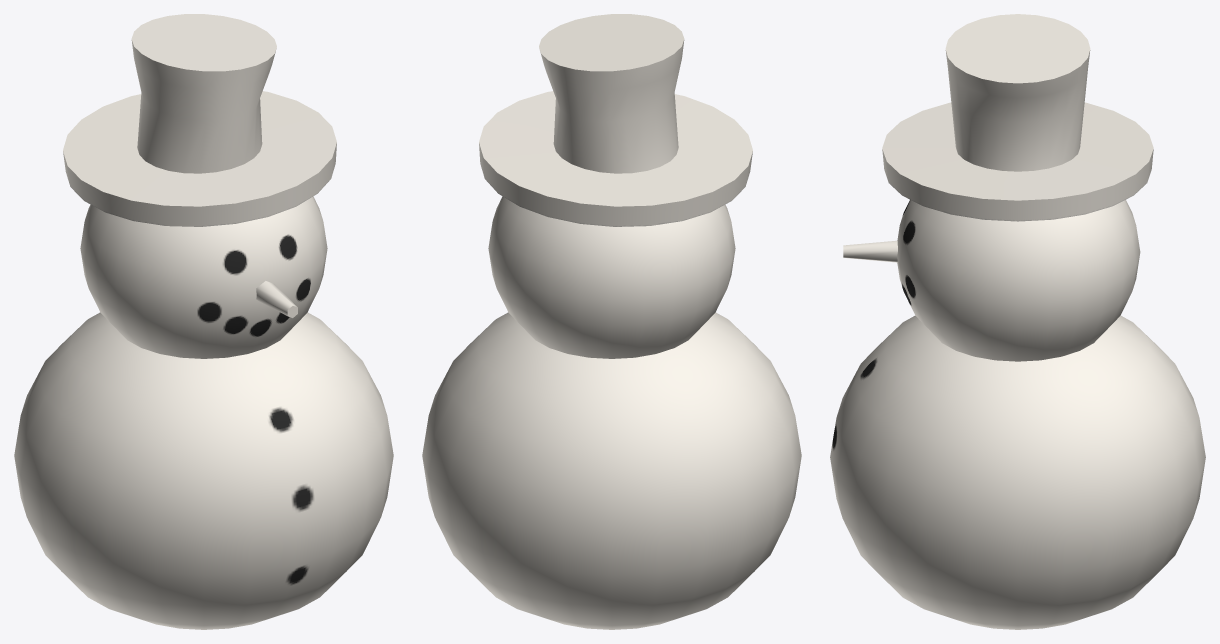
Rendered from shelf_snowman.fbx.
The picture shows the model from 3 angles, left to right: view 1: azimuth 30°, elevation 25°; view 2: azimuth 150°, elevation 25°; view 3: azimuth 270°, elevation 25°; orthographic projection.
Parts seen in each view (by area): view 1: shelf snowman; view 2: shelf snowman; view 3: shelf snowman.
Part boxes in pixels (box(x1,y1,x2,y2)): shelf snowman: box(14, 14, 393, 629); shelf snowman: box(422, 14, 801, 629); shelf snowman: box(830, 14, 1205, 629).
Bounding box in the file's own units: 25.37 × 41.32 × 25.37.
